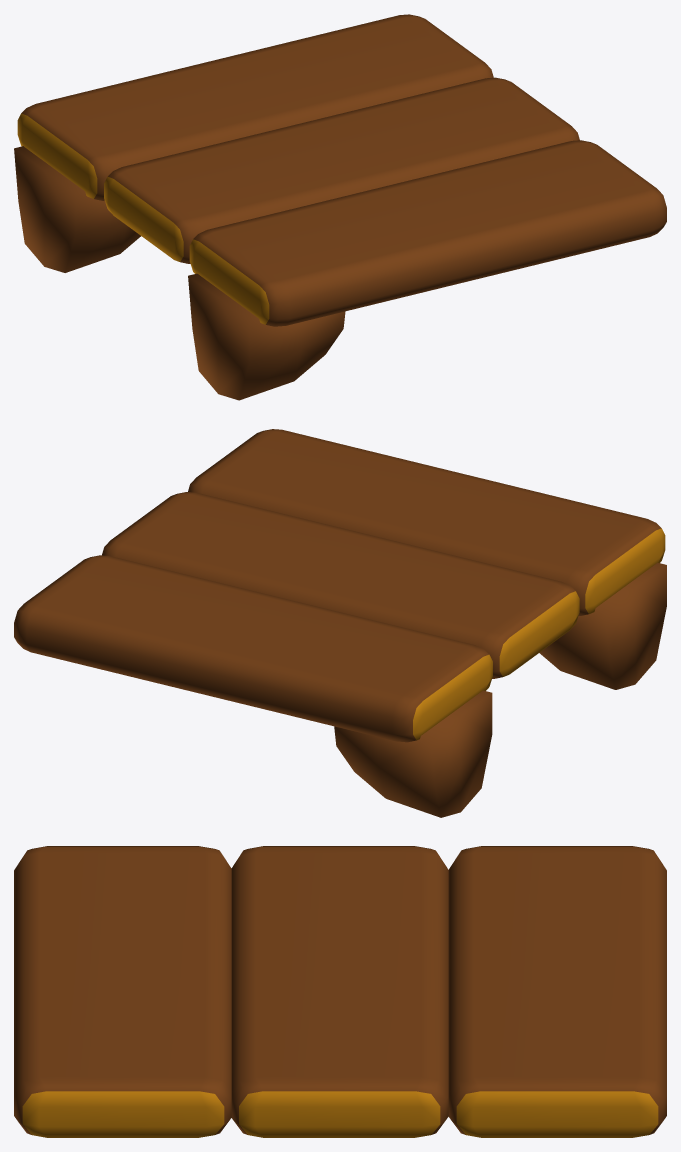
File: AxisWood.fbx
The picture shows the model from 3 angles, top to bottom: view 1: azimuth 30°, elevation 25°; view 2: azimuth 150°, elevation 25°; view 3: azimuth 270°, elevation 25°; orthographic projection. The views are drawn at different scales.
Visible parts, largest first — view 1: AxisWood3, AxisWood5, AxisWood2, AxisWood4, AxisWood1; view 2: AxisWood5, AxisWood2, AxisWood3, AxisWood1, AxisWood4; view 3: AxisWood5, AxisWood2, AxisWood3.
Part boxes in pixels (<box>): AxisWood3: <box>189,140,666,326</box>; AxisWood5: <box>17,14,493,200</box>; AxisWood2: <box>104,77,579,263</box>; AxisWood4: <box>188,273,345,400</box>; AxisWood1: <box>14,146,140,272</box>; AxisWood5: <box>14,555,492,742</box>; AxisWood2: <box>102,492,579,678</box>; AxisWood3: <box>188,429,665,615</box>; AxisWood1: <box>334,690,492,817</box>; AxisWood4: <box>539,563,666,689</box>; AxisWood5: <box>448,846,666,1137</box>; AxisWood2: <box>231,846,448,1137</box>; AxisWood3: <box>14,846,231,1137</box>.
Bounding box in the file's own units: 4.46 × 1.37 × 4.87.
1 material, 1 textured.
